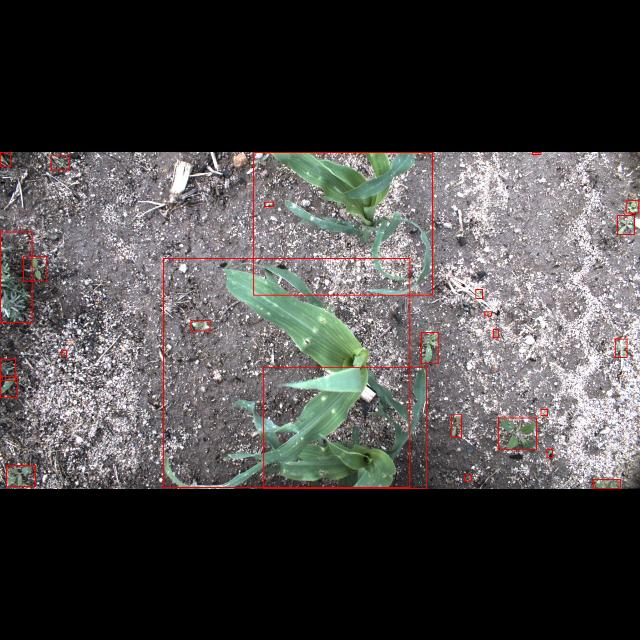crop: (164, 257, 410, 487), (253, 152, 432, 294), (264, 367, 426, 488)
weed: (0, 232, 32, 322), (498, 417, 536, 449), (7, 466, 36, 486), (420, 332, 438, 362), (24, 256, 46, 280), (1, 376, 18, 396), (1, 358, 16, 379), (618, 214, 634, 233), (50, 155, 70, 169), (452, 414, 462, 438), (615, 338, 627, 358), (594, 479, 620, 488), (190, 320, 210, 330), (626, 200, 638, 212), (0, 151, 10, 165), (540, 408, 548, 416), (547, 448, 553, 458), (492, 328, 498, 338), (476, 288, 482, 298), (264, 200, 274, 206), (465, 475, 471, 481), (484, 311, 492, 315), (62, 350, 66, 356), (532, 151, 540, 153)
